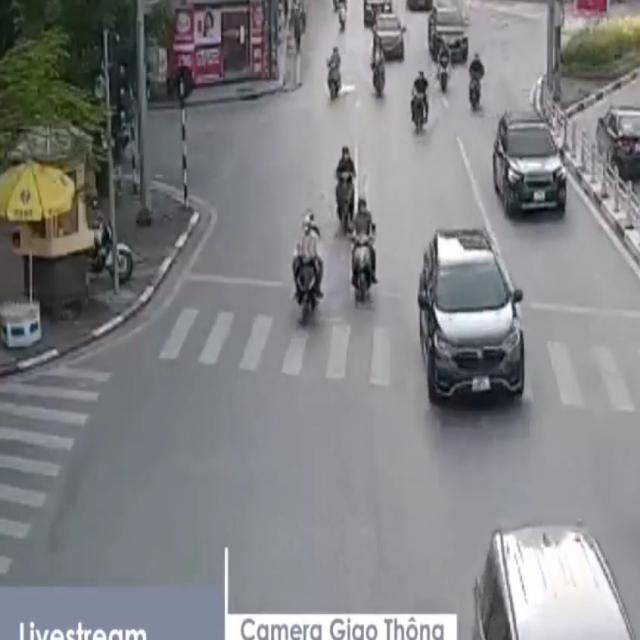car: (469, 515, 640, 640), (421, 224, 525, 404), (494, 119, 570, 216), (588, 92, 640, 185), (429, 0, 469, 60), (376, 14, 406, 62)
motorbike: (286, 201, 329, 336), (346, 191, 379, 315), (331, 140, 358, 238), (460, 32, 489, 118), (406, 62, 433, 141), (321, 38, 350, 108), (363, 38, 392, 107), (432, 35, 457, 103)
